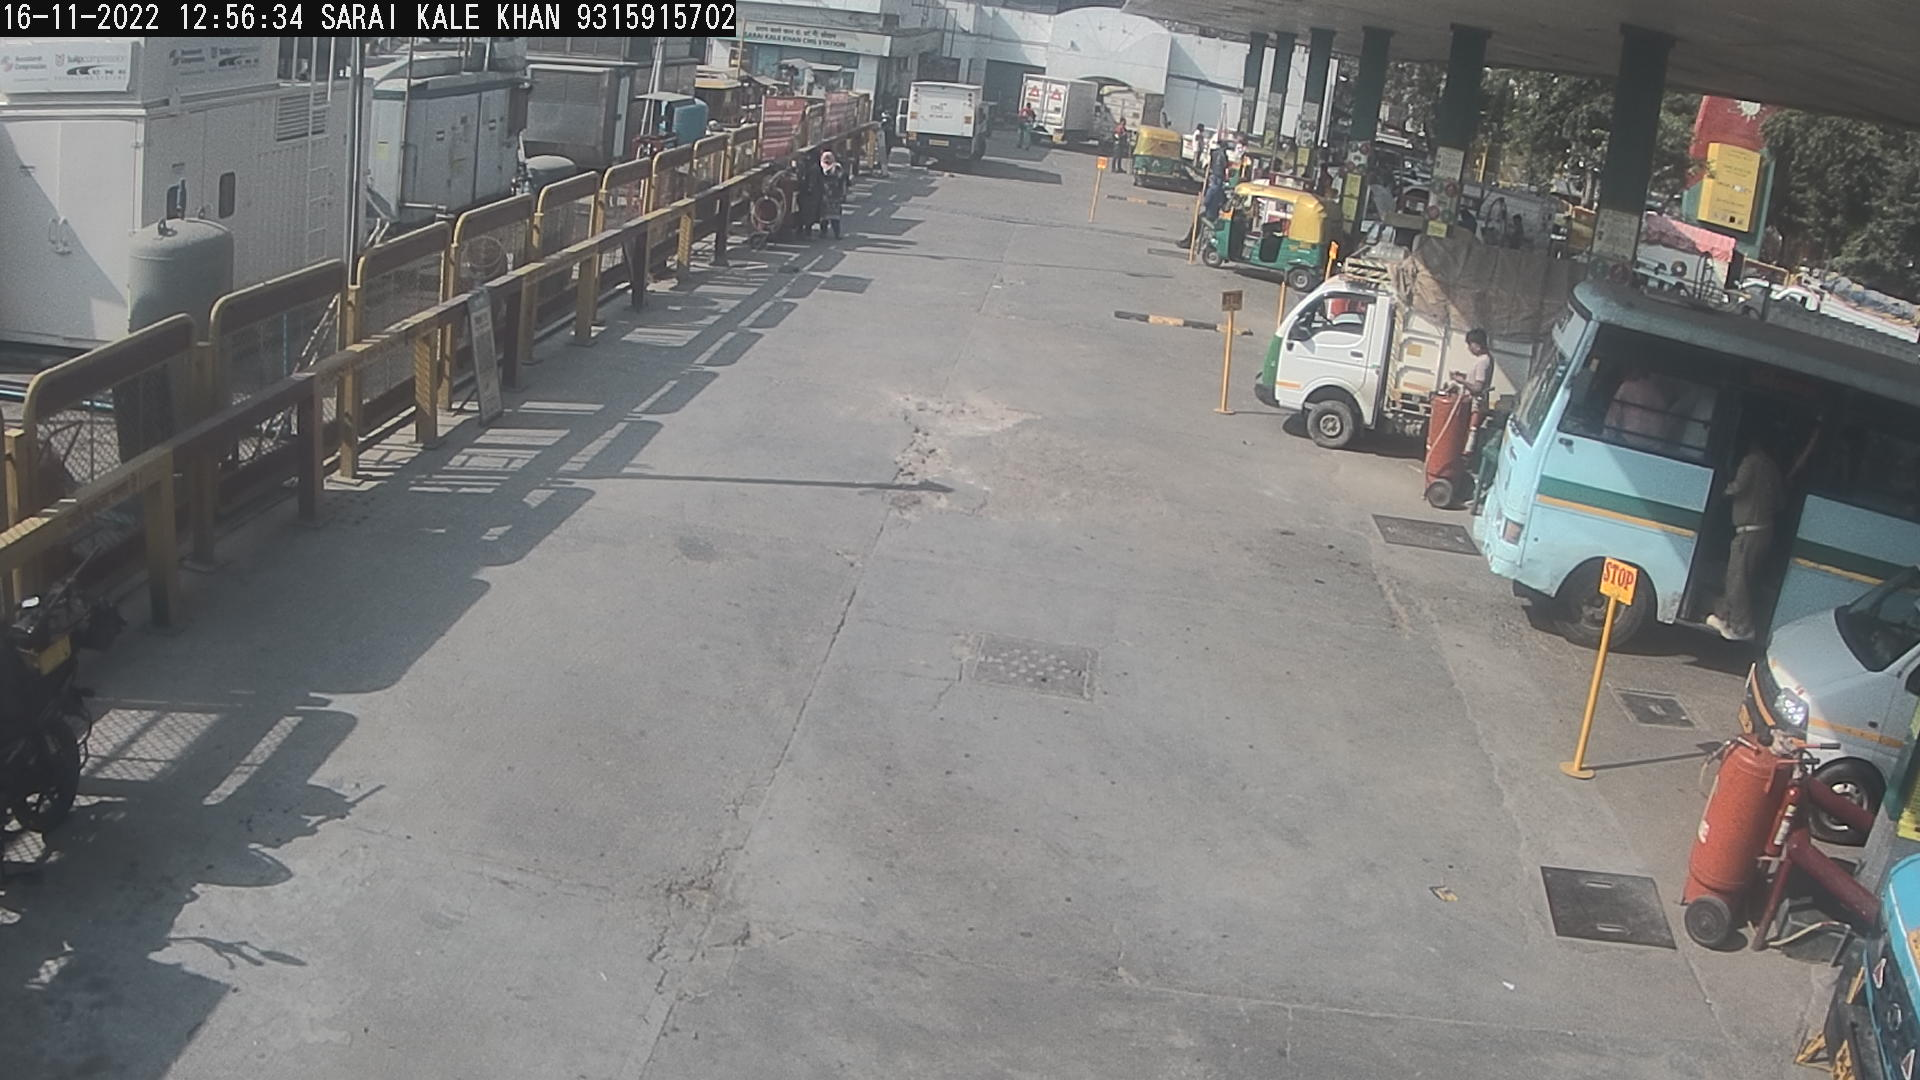Auto: (1183, 173, 1337, 301), (1338, 203, 1490, 305), (1524, 200, 1606, 273)
Bike: (3, 500, 133, 938)
Car: (1713, 530, 1917, 852), (1717, 266, 1789, 324), (1193, 131, 1261, 185), (1172, 123, 1244, 167)
HMV: (1447, 241, 1912, 666), (1244, 219, 1586, 477), (1793, 800, 1917, 1077), (1745, 257, 1917, 351), (1622, 200, 1746, 313), (887, 71, 1006, 185), (1425, 170, 1571, 258), (1007, 61, 1113, 161), (1085, 76, 1192, 167)
Others: (1005, 94, 1040, 156), (1109, 111, 1135, 179)
Others Other: (1557, 553, 1640, 781), (1209, 284, 1245, 419), (1182, 186, 1211, 276), (1083, 153, 1112, 227), (1273, 257, 1295, 338), (1320, 229, 1340, 290)
